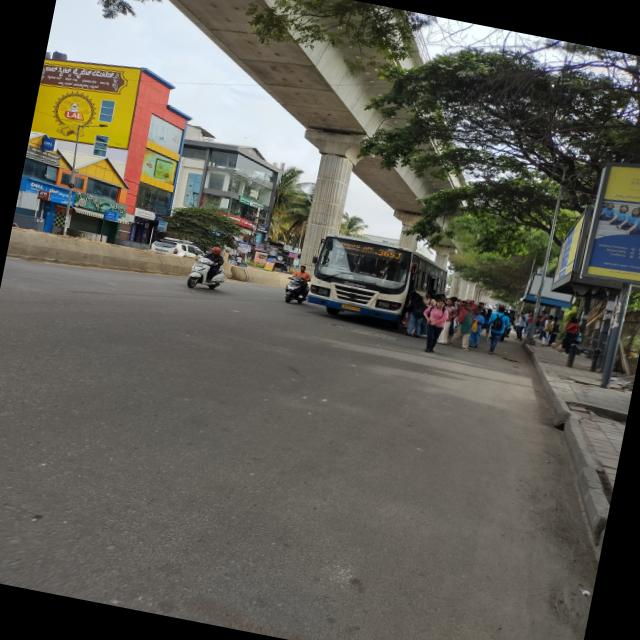bus: (304, 228, 451, 329)
display: (333, 238, 405, 262), (378, 248, 403, 260)
